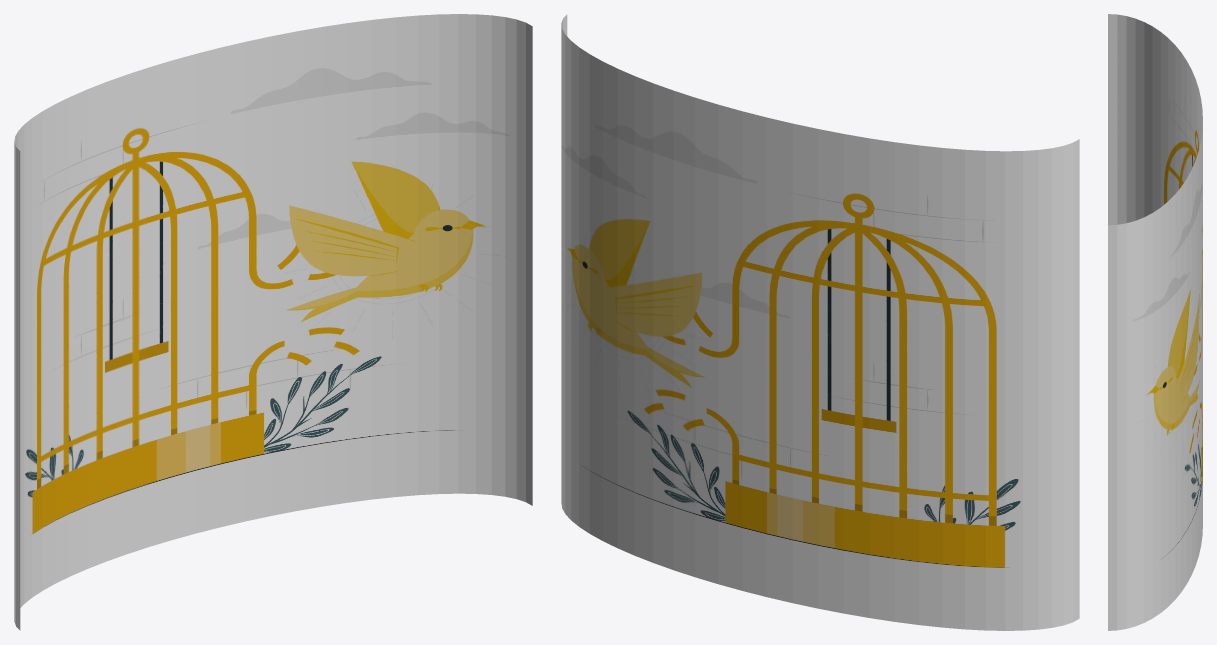
The model's file is PlaneBird.fbx.
3 renders of one model, left to right at view 1: azimuth 30°, elevation 25°; view 2: azimuth 150°, elevation 25°; view 3: azimuth 270°, elevation 25°, orthographic. The views are drawn at different scales.
Parts seen in each view (by area): view 1: Cylinder; view 2: Cylinder; view 3: Cylinder.
Boxes of the visible parts, x1=… form: Cylinder: x1=14, y1=14, x2=532, y2=630; Cylinder: x1=561, y1=14, x2=1079, y2=630; Cylinder: x1=1108, y1=14, x2=1202, y2=630.
Bounding box in the file's own units: 223 × 200 × 42.45.
